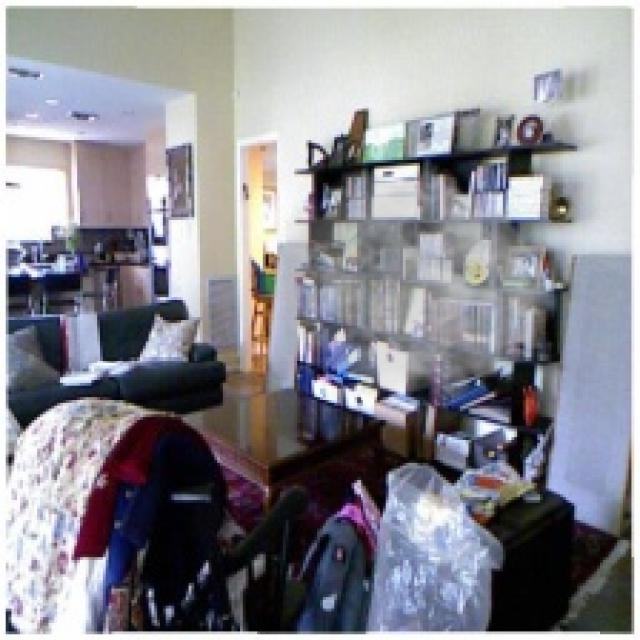smoke: (286, 160, 554, 406)
